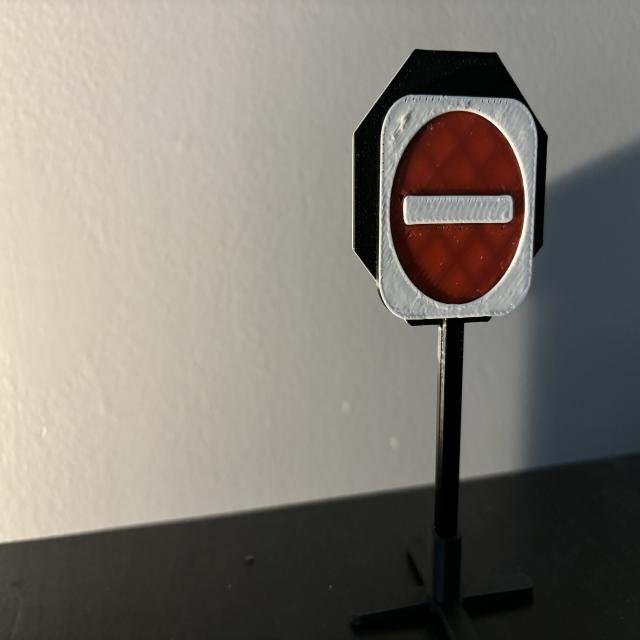sign_noentry: (382, 95, 539, 320)
